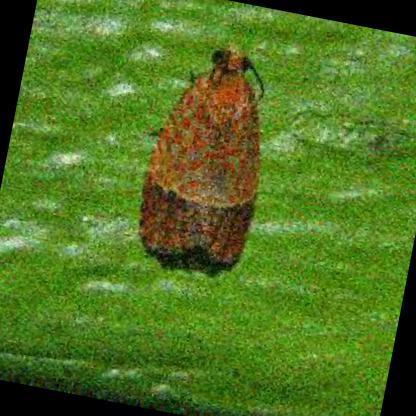Leaf Webber: (138, 46, 264, 277)
